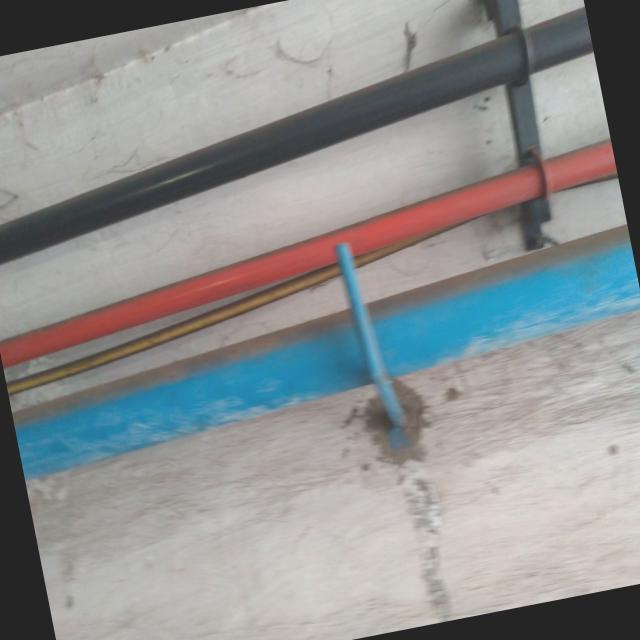gas: (12, 223, 640, 477), (0, 11, 586, 256), (0, 143, 617, 368)
